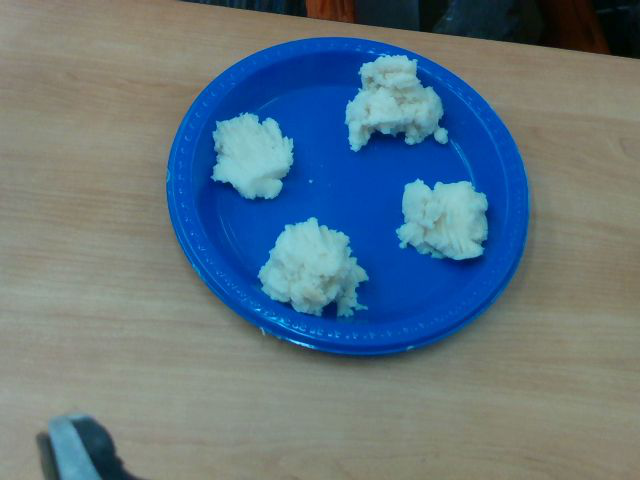mashed_potato: (259, 216, 370, 318), (345, 55, 450, 150), (395, 178, 487, 260), (211, 111, 292, 198)
